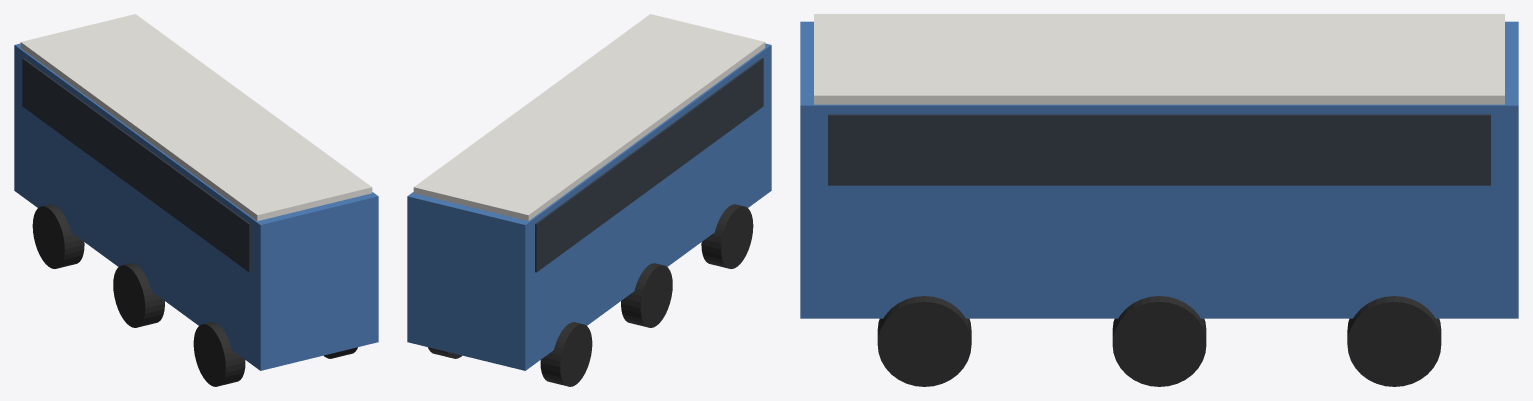
Rendered from Bus.glb.
The picture shows the model from 3 angles, left to right: view 1: azimuth 30°, elevation 25°; view 2: azimuth 150°, elevation 25°; view 3: azimuth 270°, elevation 25°; orthographic projection. The views are drawn at different scales.
Visible parts, largest first — view 1: BusBody, BusRoof, BusGlass, BusWheel6, BusWheel4, BusWheel2; view 2: BusBody, BusRoof, BusGlass, BusWheel2, BusWheel4, BusWheel6; view 3: BusBody, BusRoof, BusGlass, BusWheel1, BusWheel5, BusWheel3.
Boxes of the visible parts, <box> form: BusBody: <box>14,43,378,370</box>; BusRoof: <box>20,14,372,221</box>; BusGlass: <box>22,58,250,272</box>; BusWheel6: <box>193,322,245,386</box>; BusWheel4: <box>113,263,164,327</box>; BusWheel2: <box>32,204,84,268</box>; BusBody: <box>407,43,771,370</box>; BusRoof: <box>413,14,765,221</box>; BusGlass: <box>535,58,763,272</box>; BusWheel2: <box>540,322,592,386</box>; BusWheel4: <box>621,263,672,327</box>; BusWheel6: <box>701,204,753,268</box>; BusBody: <box>800,21,1518,318</box>; BusRoof: <box>814,14,1504,104</box>; BusGlass: <box>828,114,1490,185</box>; BusWheel1: <box>1347,296,1441,386</box>; BusWheel5: <box>877,296,971,386</box>; BusWheel3: <box>1112,296,1206,386</box>.
Bounding box in the file's own units: 1.64 × 2.27 × 5.2.
